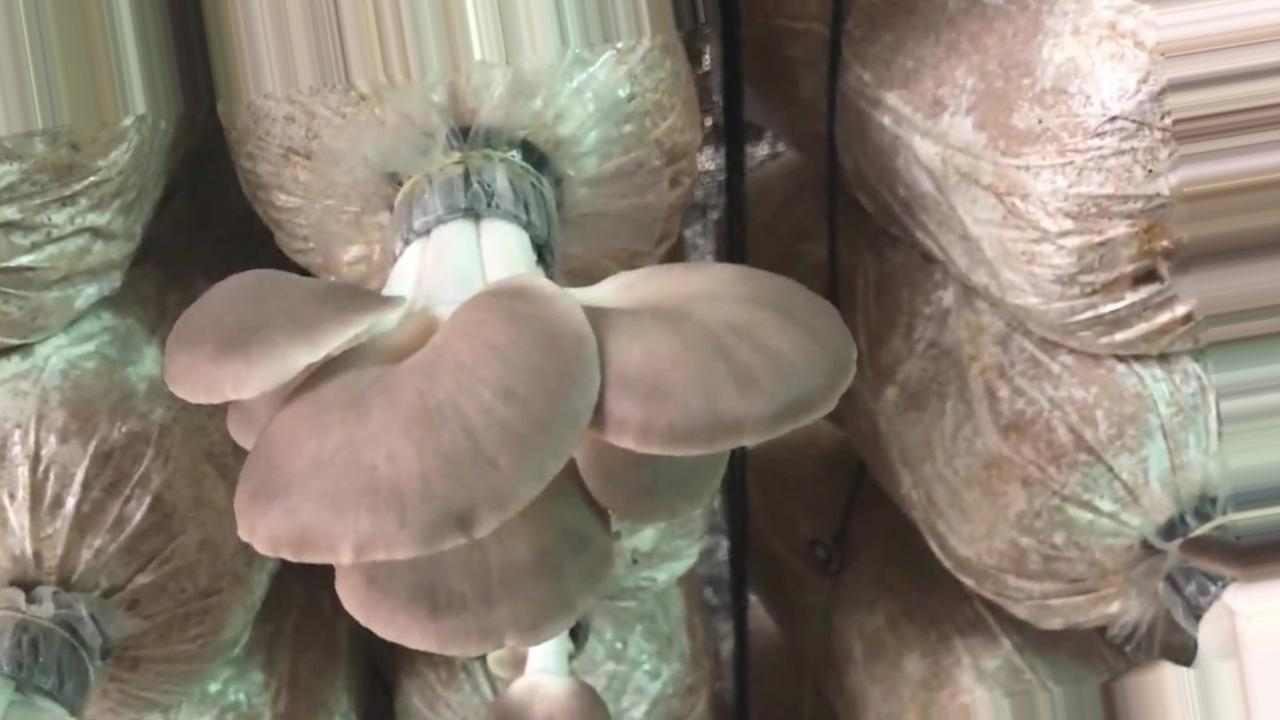nam: (164, 155, 853, 657), (1112, 514, 1280, 720), (488, 609, 604, 720)
